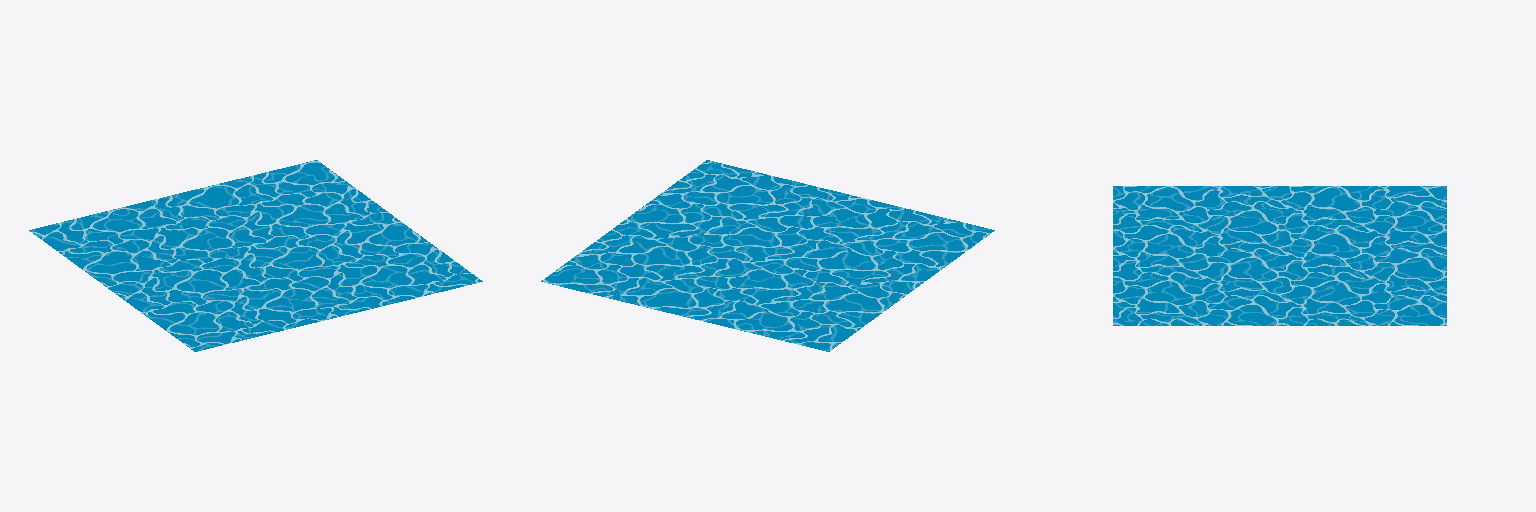
3 renders of one model, left to right at view 1: azimuth 30°, elevation 25°; view 2: azimuth 150°, elevation 25°; view 3: azimuth 270°, elevation 25°, orthographic.
Parts seen in each view (by area): view 1: Plane.001_Material.006; view 2: Plane.001_Material.006; view 3: Plane.001_Material.006.
Part boxes in pixels (x1,y1,x2,y2): Plane.001_Material.006: (29, 160, 482, 351); Plane.001_Material.006: (541, 160, 994, 351); Plane.001_Material.006: (1113, 186, 1446, 325).
Bounding box in the file's own units: 400 × 0 × 400.
1 materials, 1 textured.